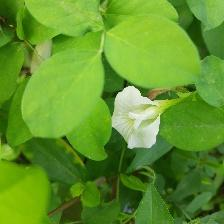shankupushpam: (110, 85, 178, 154)
